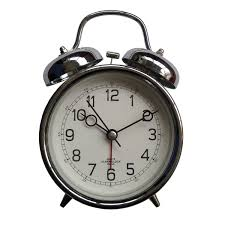alarm_clock: (37, 8, 183, 206), (54, 8, 183, 206)
